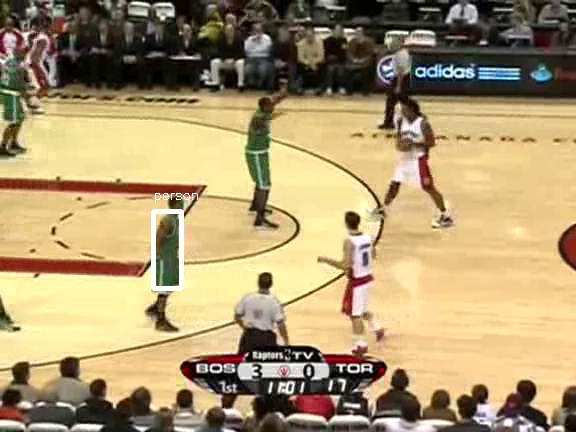person: (153, 214, 187, 295), (152, 214, 186, 295), (154, 214, 188, 295), (153, 213, 187, 294), (153, 215, 187, 296)
target_negative: (440, 127, 566, 341), (466, 45, 502, 113), (398, 364, 449, 394), (83, 49, 213, 57), (135, 401, 493, 403), (526, 410, 538, 419)
